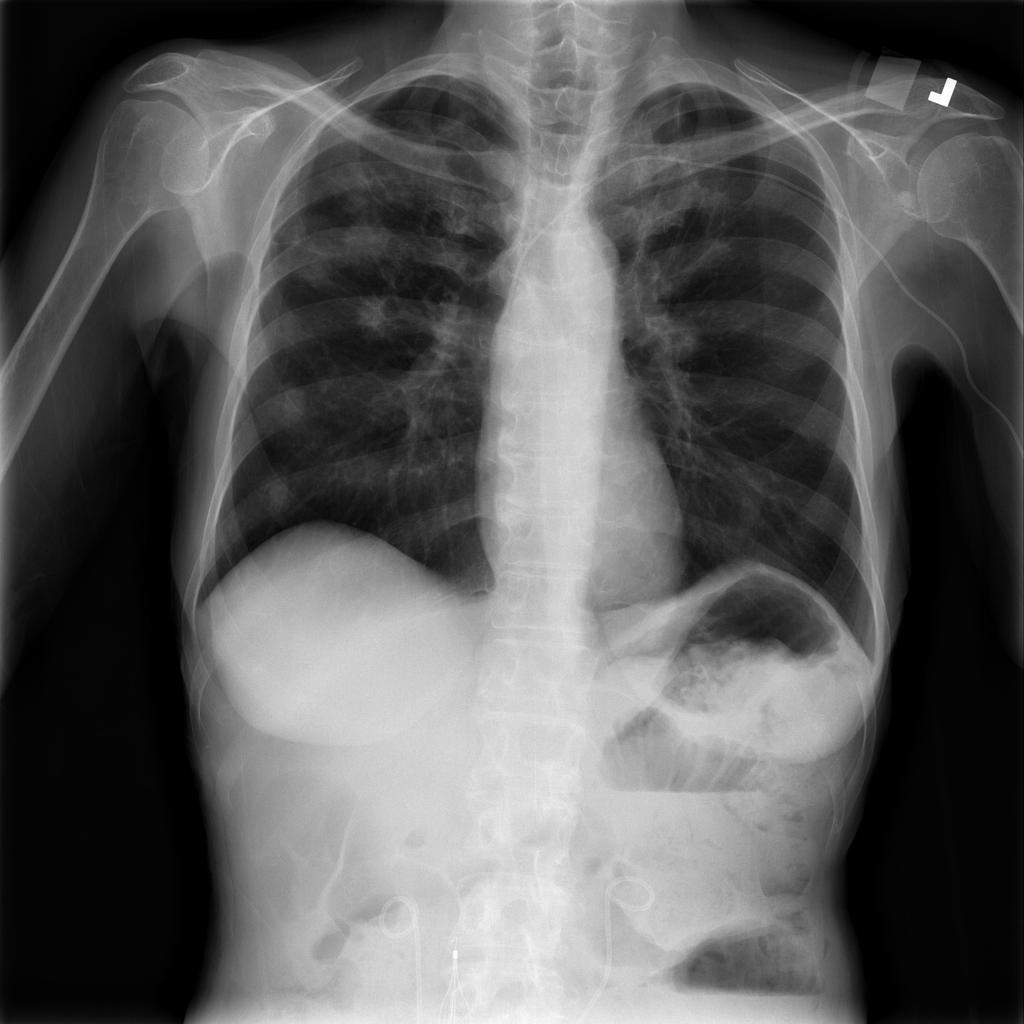nodule: (322, 202, 403, 276), (242, 456, 308, 534), (343, 285, 408, 355), (261, 370, 322, 443)
